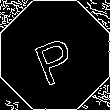P_N: (29, 25, 81, 85)
